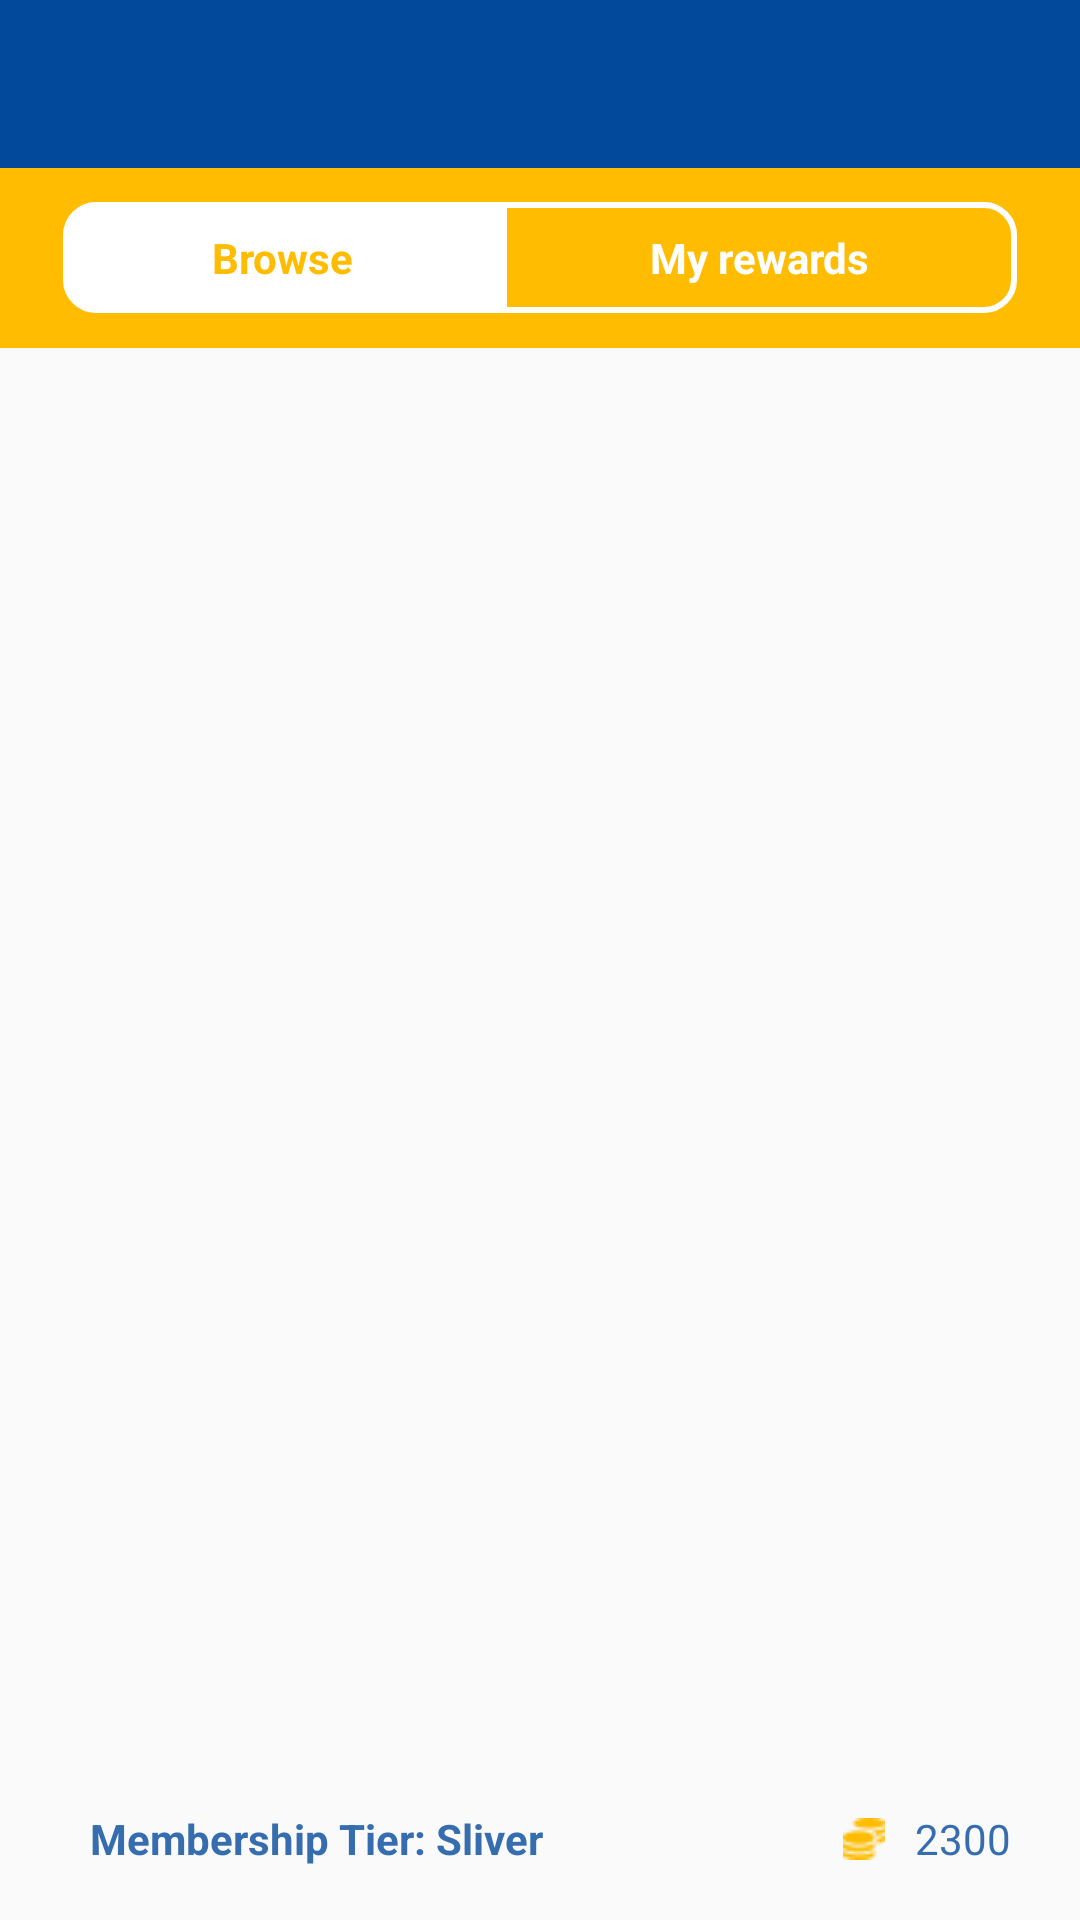

Locate icon controls on the screen. Image size 1080x1920, boxes as (x1, y1, x2, y2).
coins: (843, 1818, 885, 1860)
